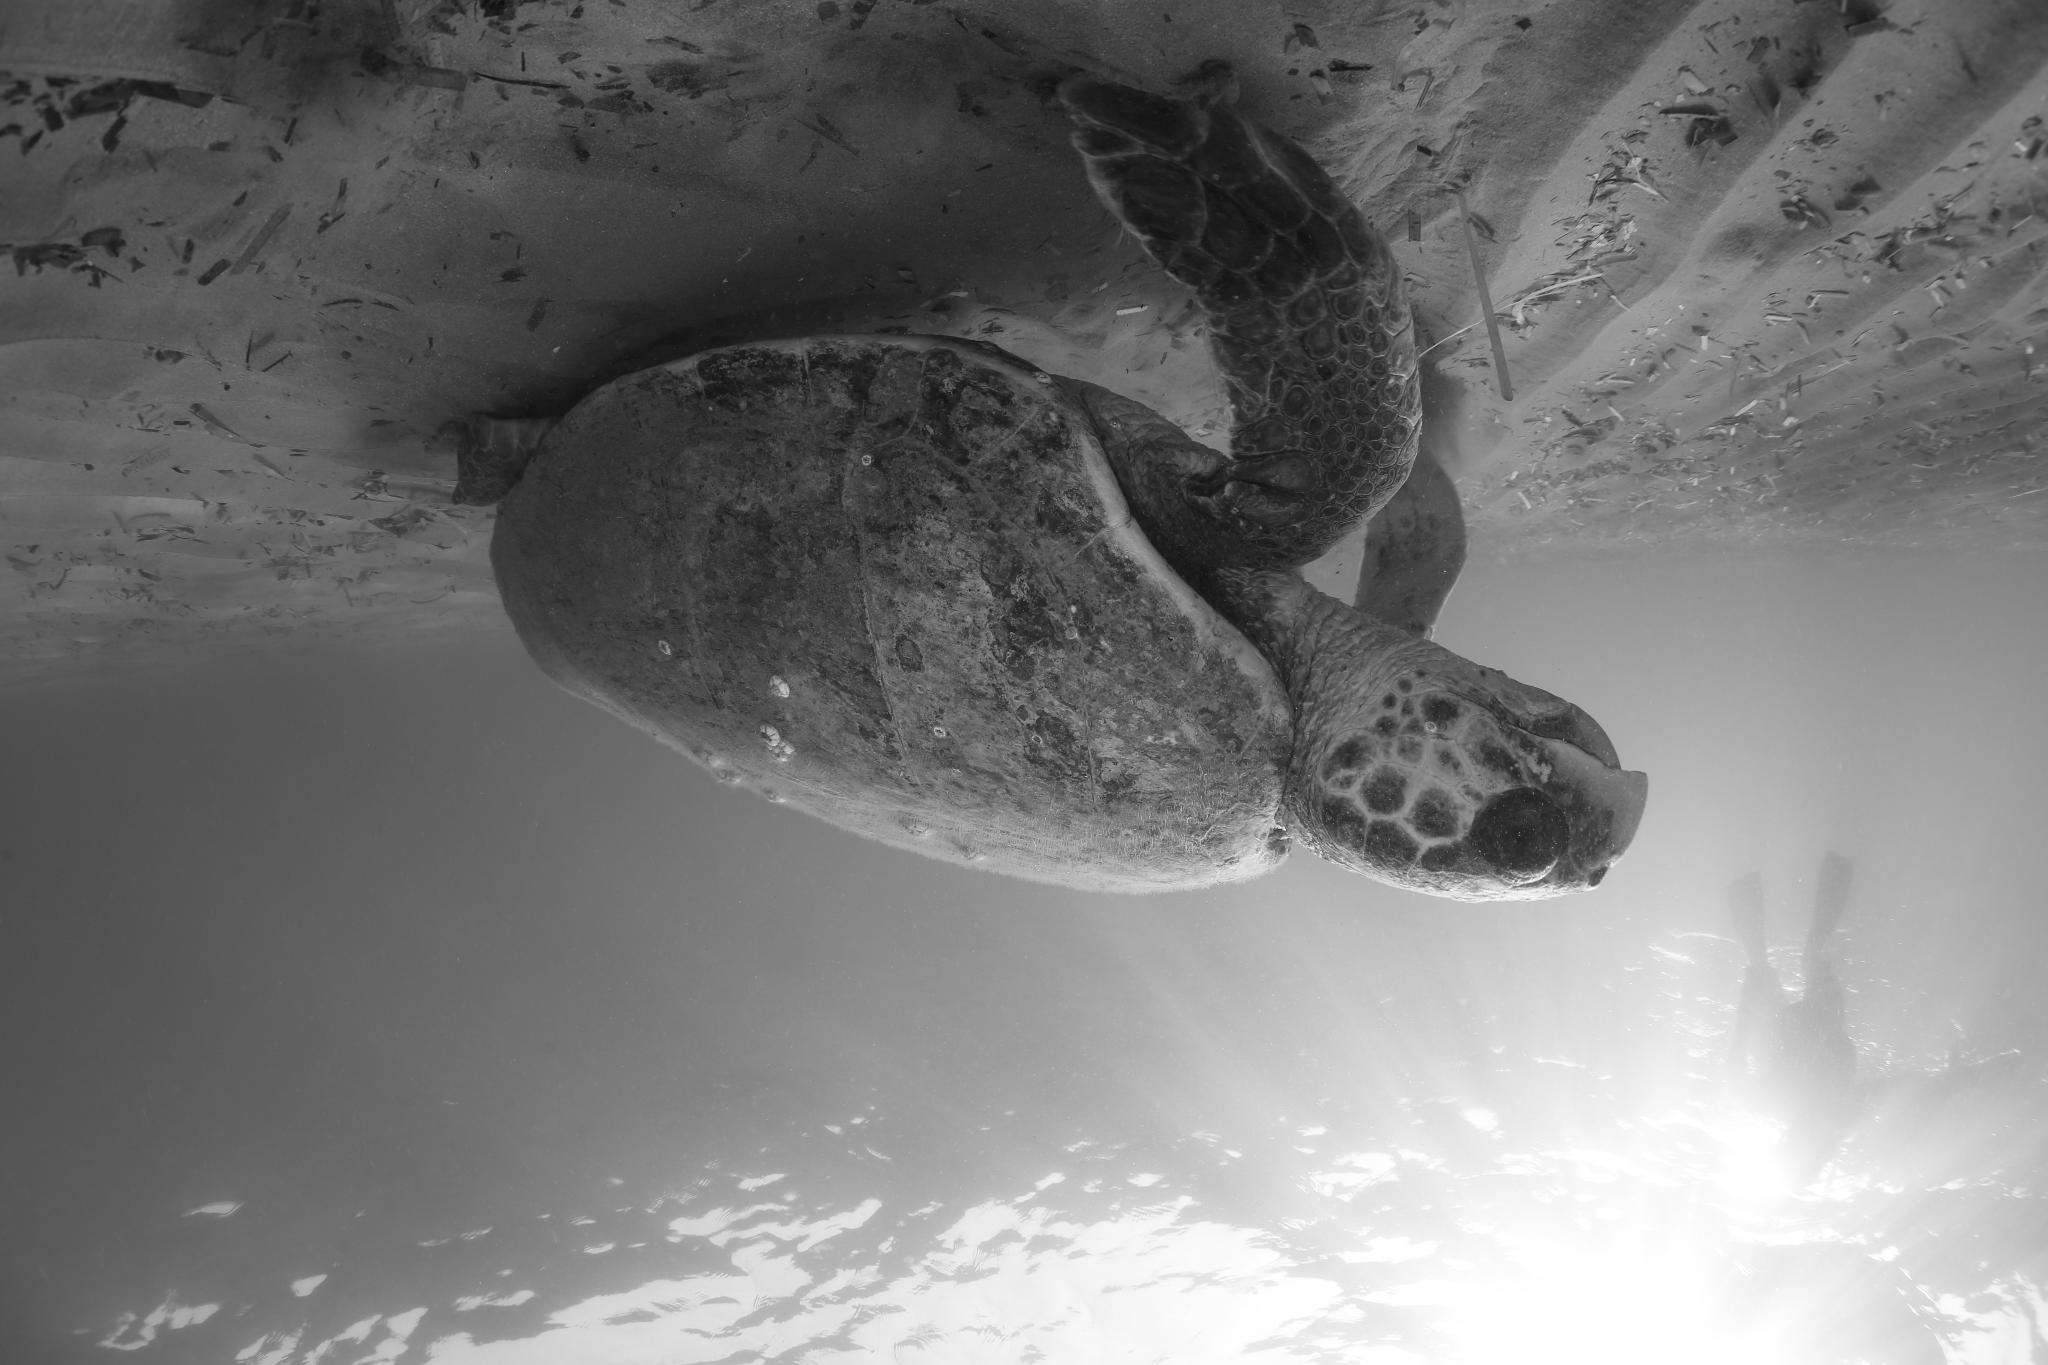Head: (1267, 590, 1647, 901)
